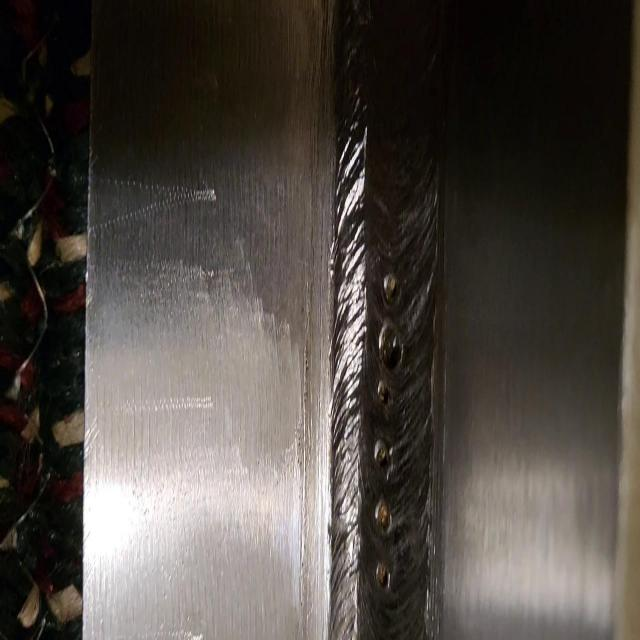Welding Line: (335, 5, 434, 640)
Workpiece: (92, 7, 640, 640)
porosity: (373, 272, 404, 595)
